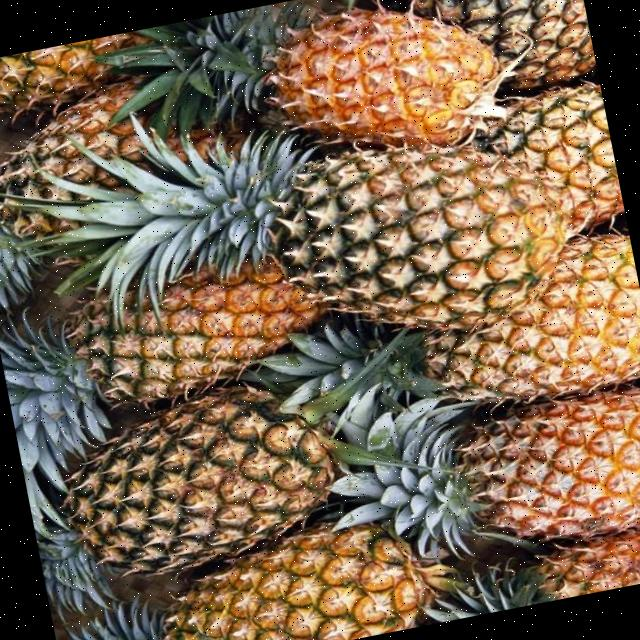pineapple: (19, 127, 566, 327), (0, 262, 326, 522), (244, 233, 640, 445), (37, 385, 339, 610), (37, 385, 339, 610), (97, 2, 514, 145), (331, 385, 640, 556), (72, 524, 454, 640), (472, 83, 623, 235), (426, 528, 640, 622), (383, 0, 595, 90), (0, 81, 143, 200), (0, 31, 147, 114), (0, 204, 77, 308)
